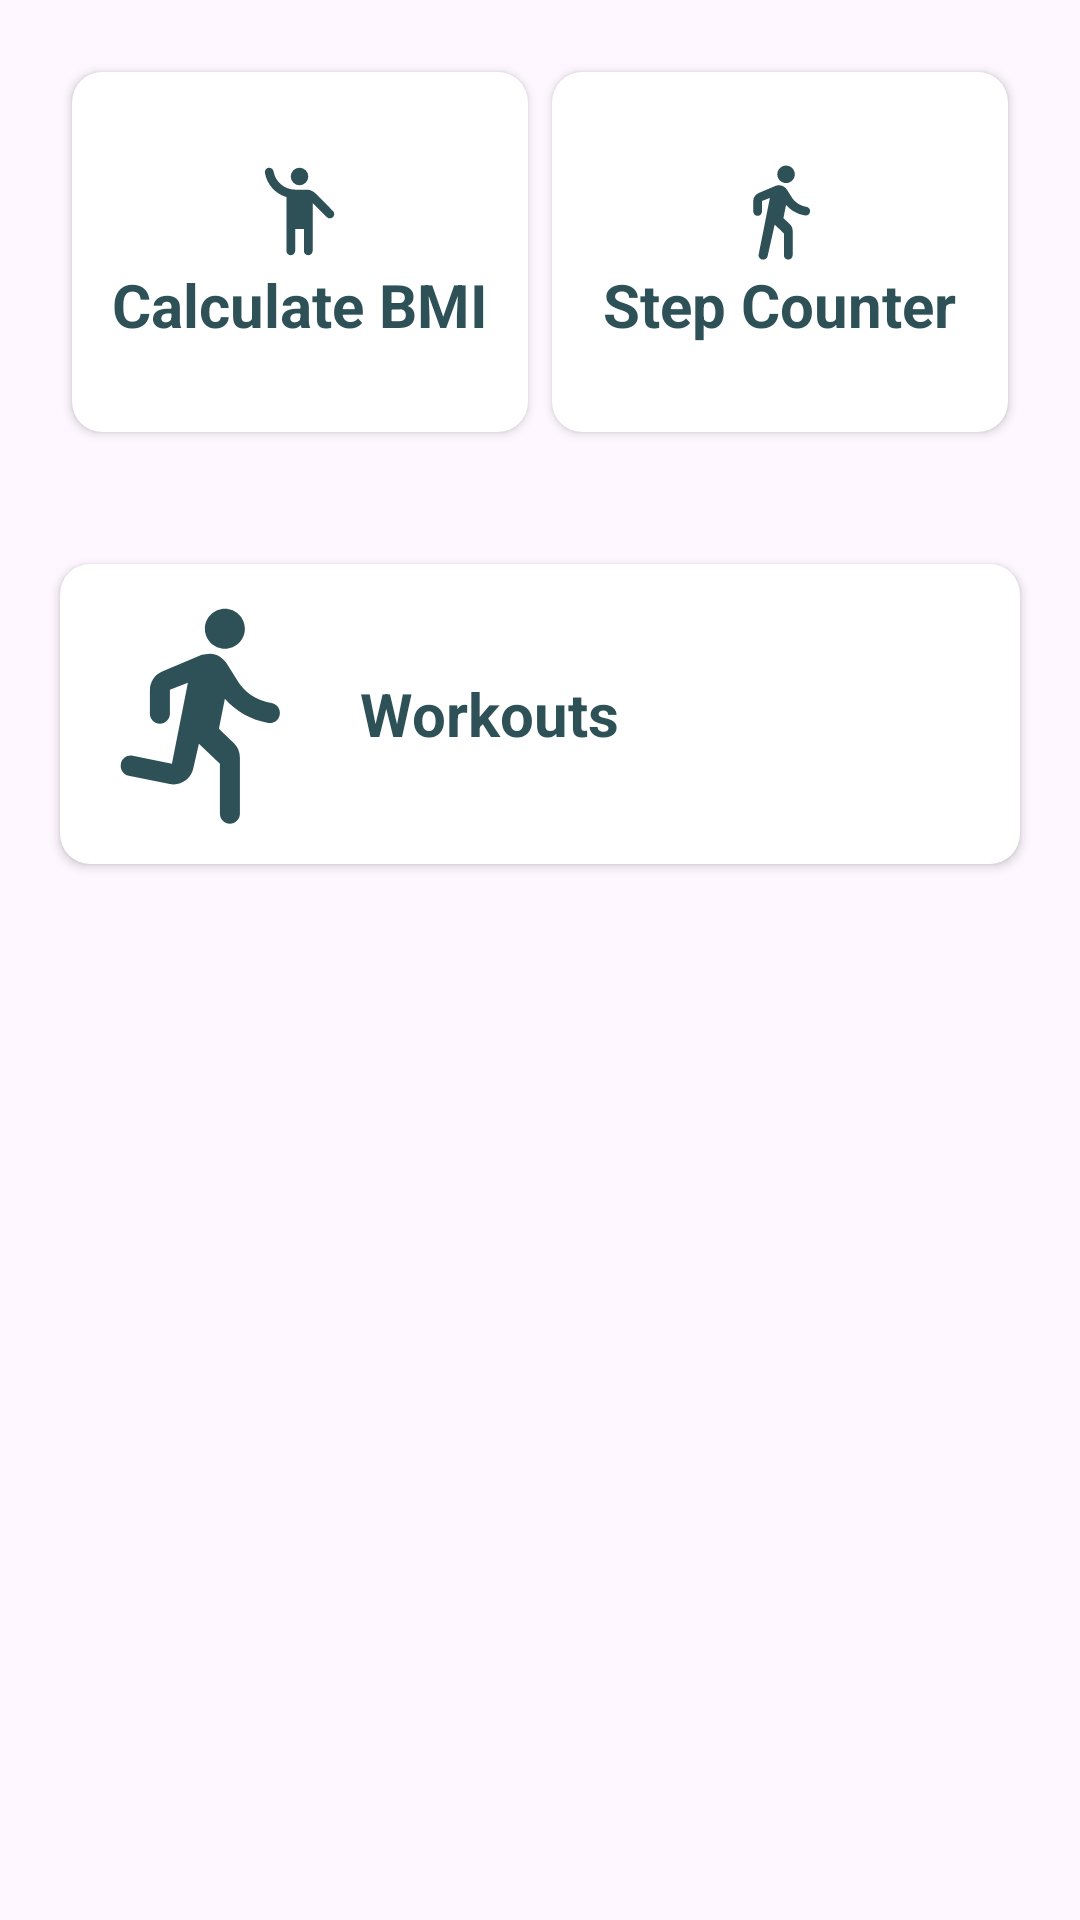

Icons on this 1080px×1920px Android screen, each with its box as (x1, y1, x2, y2):
walk: (753, 165, 810, 260)
